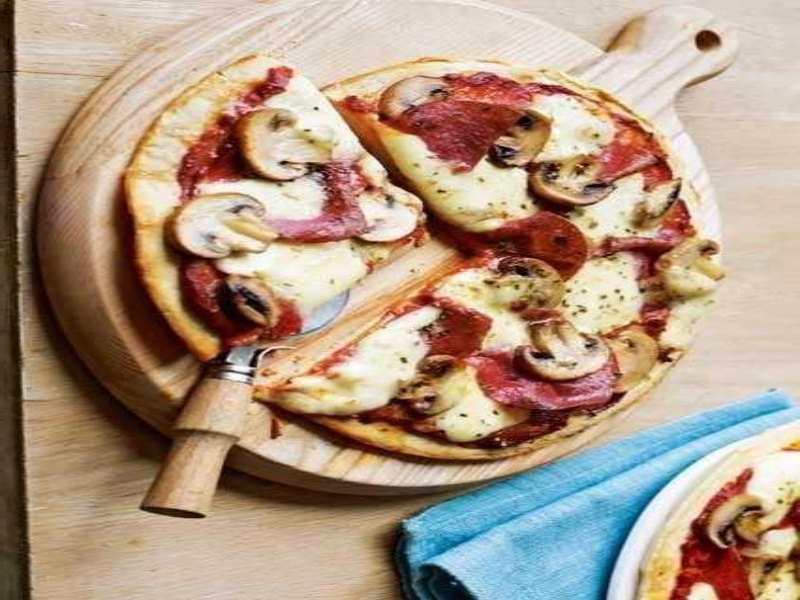champignon: (233, 107, 347, 184), (166, 191, 283, 264), (511, 313, 618, 390), (389, 346, 484, 427), (529, 147, 619, 211)
